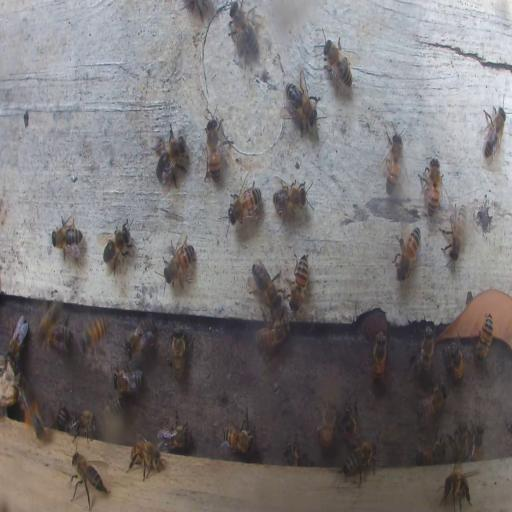bee: (282, 71, 323, 130), (154, 124, 188, 188), (68, 450, 106, 502), (98, 219, 133, 275), (163, 233, 196, 290), (322, 34, 355, 90), (229, 2, 259, 62), (440, 198, 468, 262), (438, 462, 473, 512), (342, 440, 376, 489), (408, 322, 436, 378), (480, 106, 507, 164), (20, 382, 45, 444), (272, 178, 310, 218), (126, 437, 163, 478), (51, 213, 83, 259), (222, 414, 256, 457), (395, 226, 421, 282), (228, 184, 262, 226), (251, 263, 282, 308), (124, 318, 157, 360), (416, 380, 448, 423), (419, 156, 442, 215), (382, 126, 403, 190), (204, 114, 223, 184), (254, 316, 290, 352), (38, 300, 66, 343), (79, 314, 108, 355), (290, 253, 310, 312), (6, 316, 28, 364), (158, 416, 189, 450), (318, 397, 336, 452), (168, 328, 187, 379), (67, 410, 97, 442), (475, 314, 494, 362), (340, 401, 360, 445), (371, 332, 387, 386), (444, 340, 464, 382), (112, 368, 144, 392), (416, 438, 446, 463), (46, 323, 71, 349), (470, 422, 486, 460), (284, 440, 302, 466), (455, 425, 469, 458), (56, 405, 69, 431)
